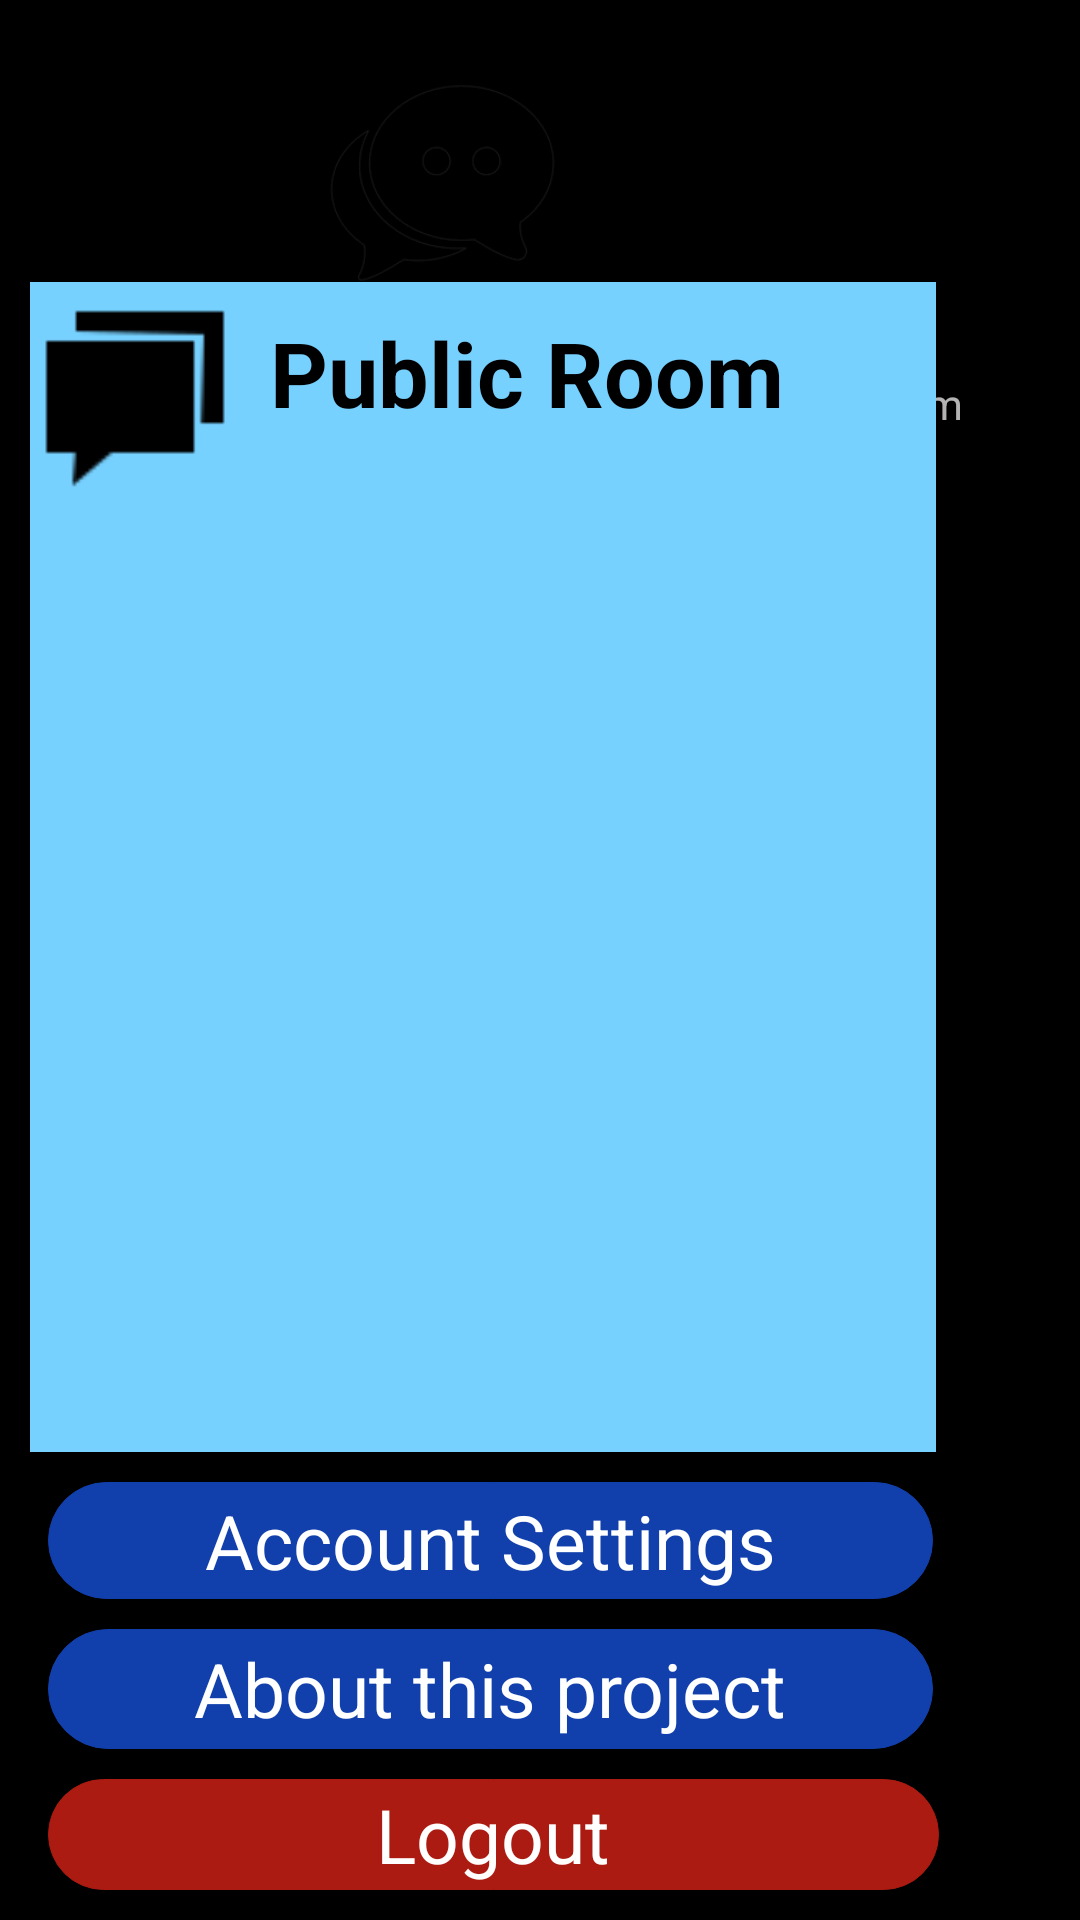

Icon click points for this 1080w x 1920h phone screenshot, format (x,y):
public chat: (135,398)
